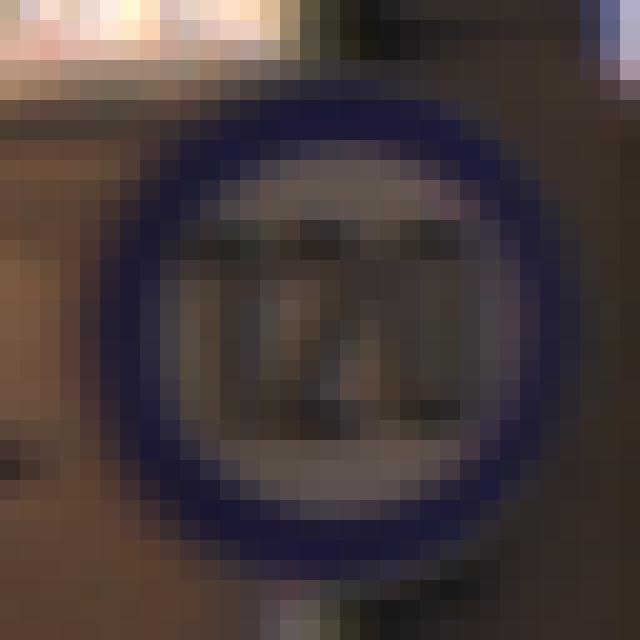SPEED LIMIT 120: (89, 96, 581, 562)
